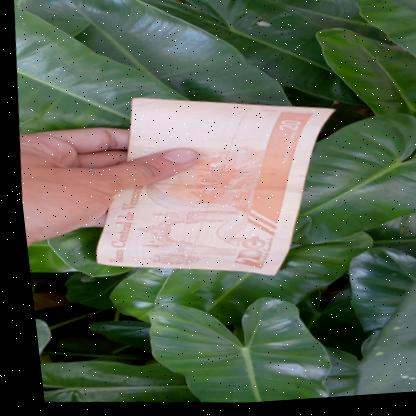twenty-back-vef: (74, 85, 347, 294)
